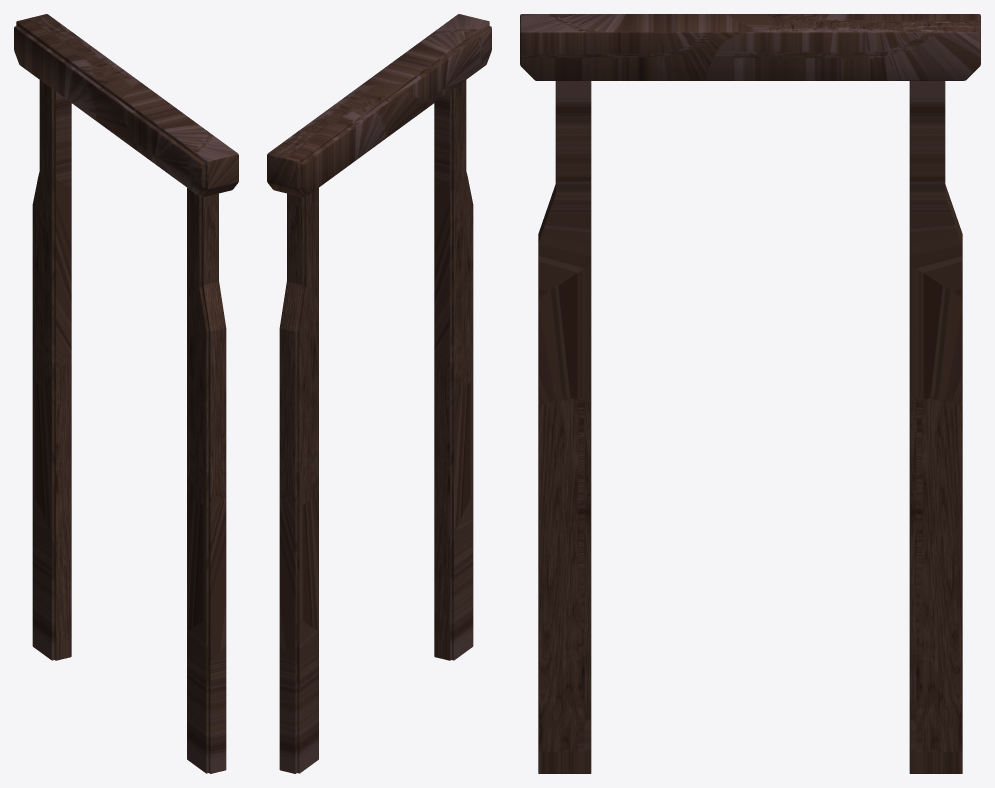
File: Office_Door_Frame.fbx
The picture shows the model from 3 angles, left to right: view 1: azimuth 30°, elevation 25°; view 2: azimuth 150°, elevation 25°; view 3: azimuth 270°, elevation 25°; orthographic projection. The views are drawn at different scales.
Parts seen in each view (by area): view 1: Cube.094; view 2: Cube.094; view 3: Cube.094.
Boxes of the visible parts, x1=… form: Cube.094: x1=14, y1=14, x2=238, y2=773; Cube.094: x1=267, y1=14, x2=491, y2=773; Cube.094: x1=520, y1=14, x2=980, y2=773.
Size of the model in its own units: 20.15 by 336 by 188.
